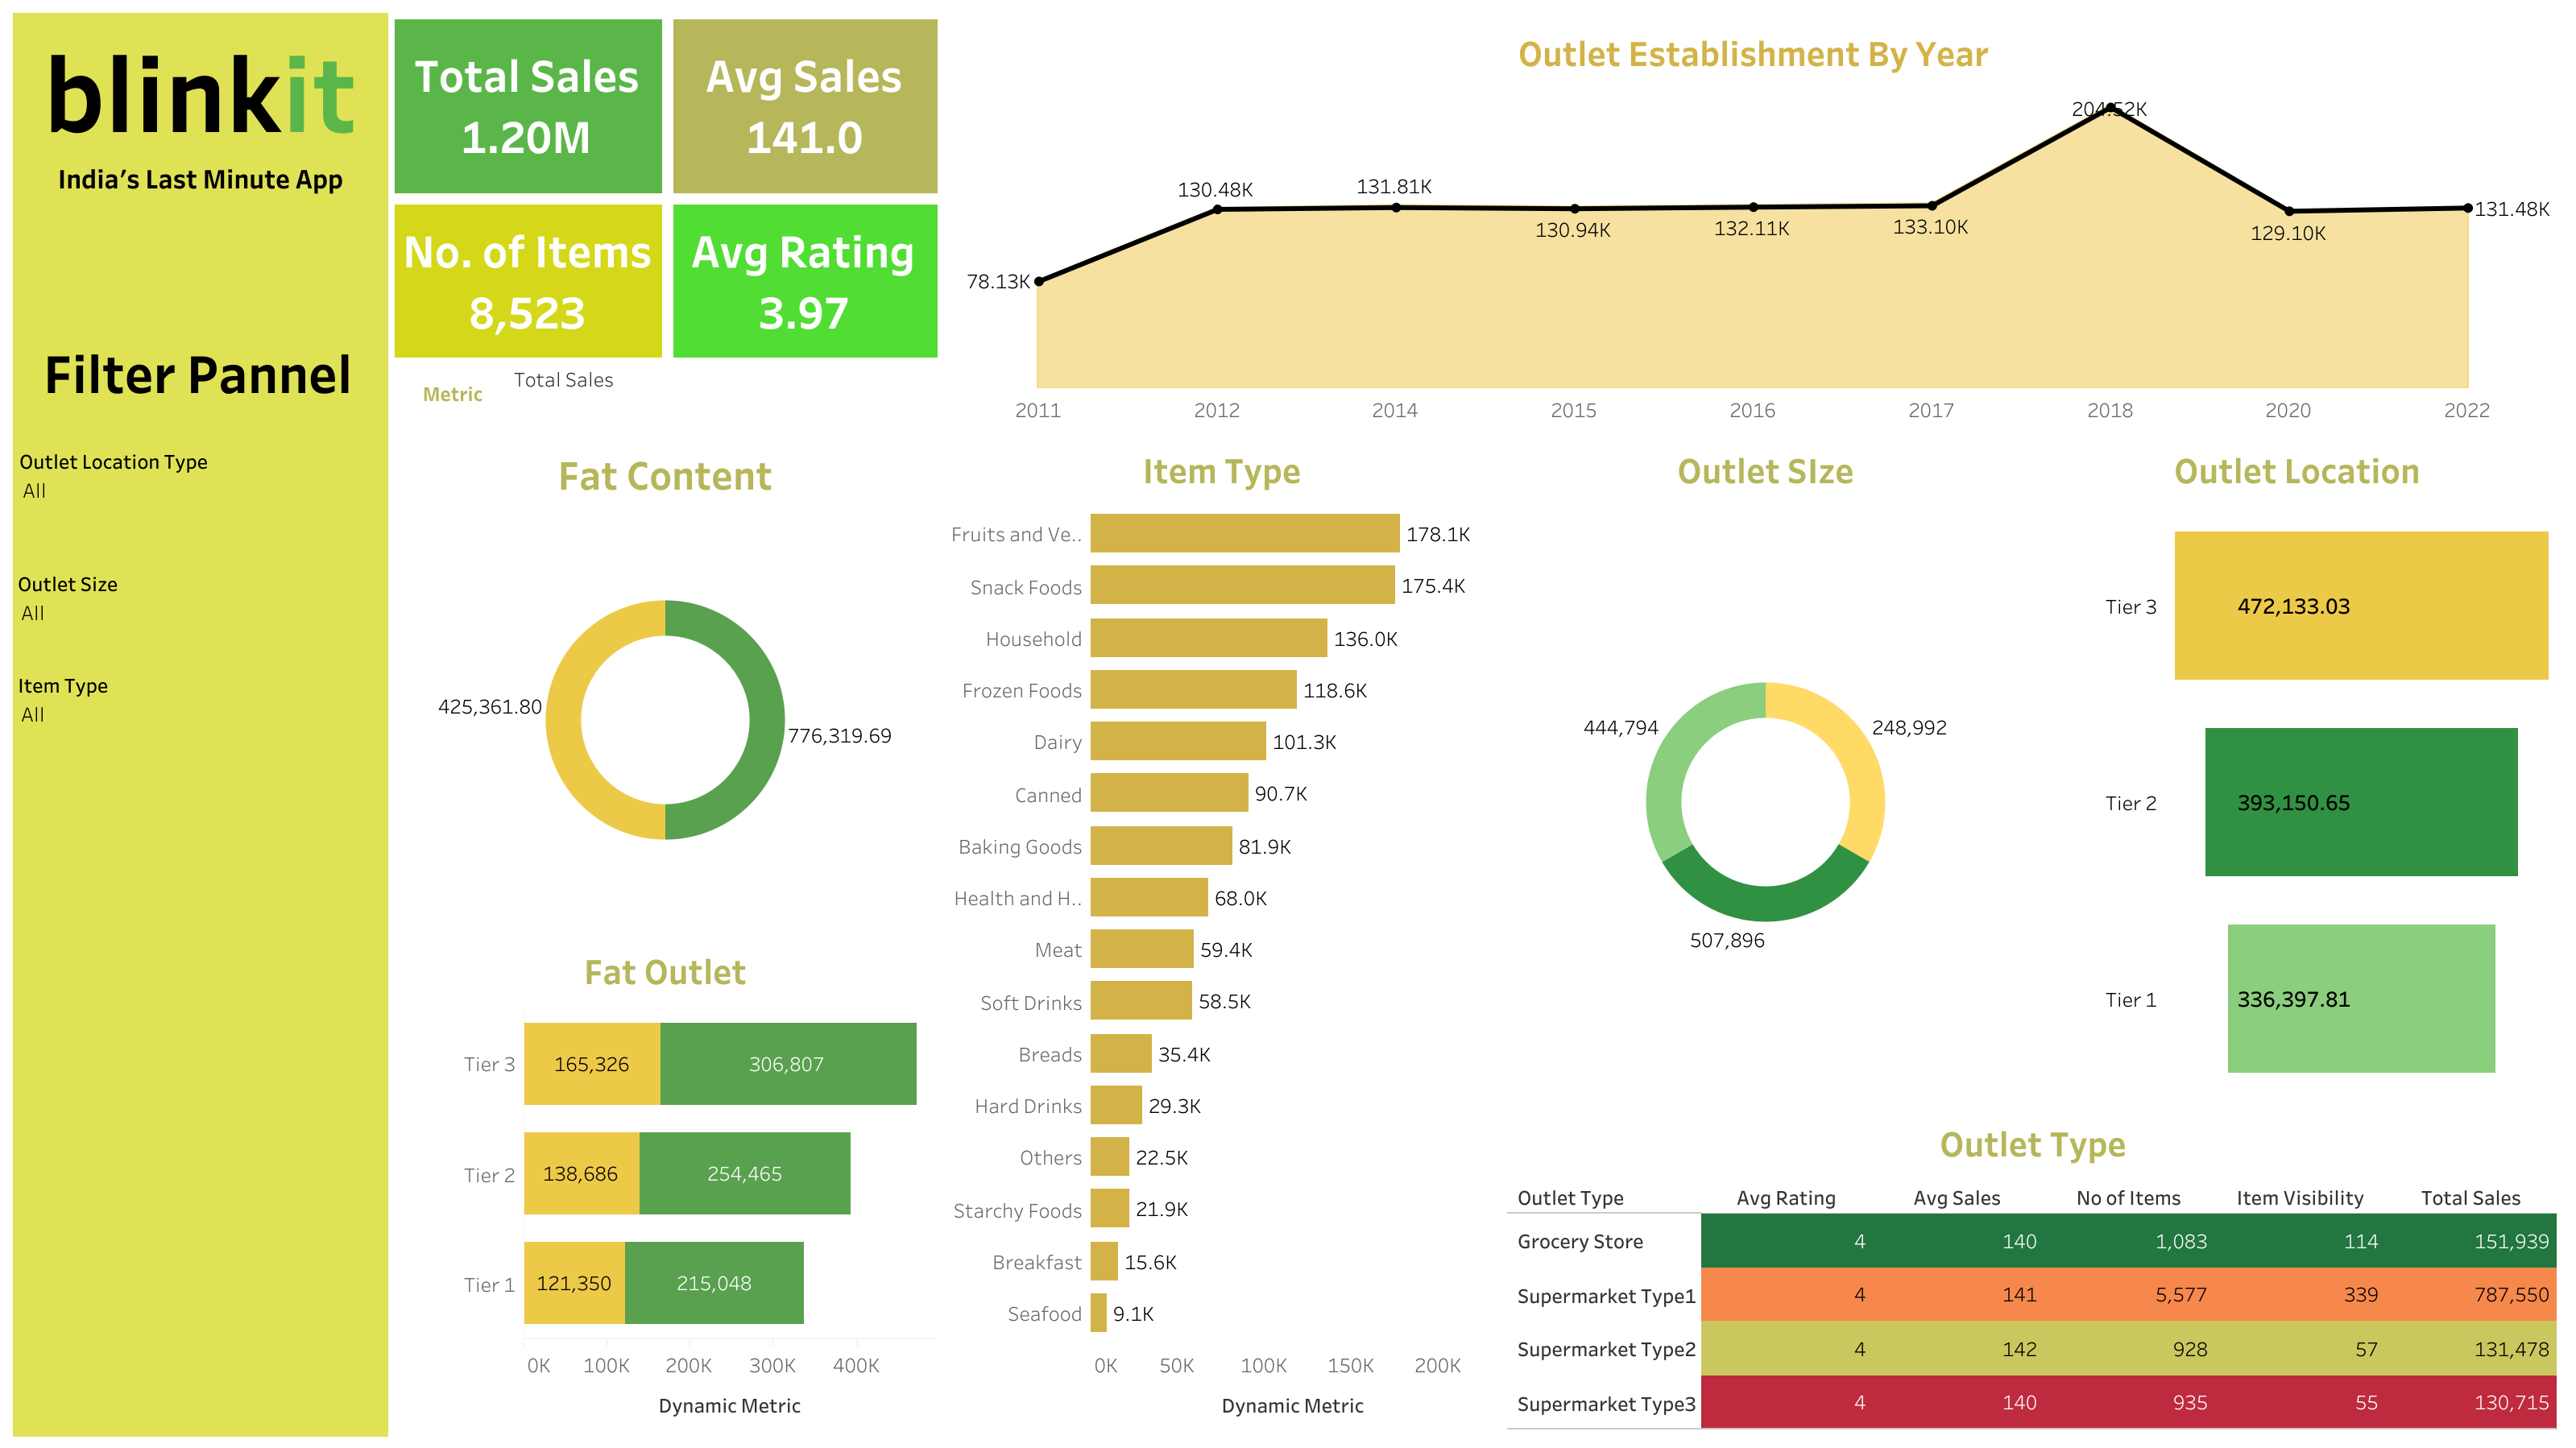

What the dashboard file says about the page in this screenshot:
{"tool":"tableau","page":{"name":"Dashboard 1","canvas":[1600,900],"ordinal":0},"visuals":[{"type":"text","box":[8,8,233,117]},{"type":"worksheet","title":"Total Sales","mark":"Automatic","box":[241,8,173,115]},{"type":"worksheet","title":"Avg Sales","mark":"Automatic","box":[414,8,171,115]},{"type":"worksheet","title":"Outlet Establishment By Year","mark":"Area","rows":["Calculation_0124083453345792","Calculation_0124083453345792"],"cols":["Outlet Establishment Year"],"box":[585,8,1007,259]},{"type":"worksheet","title":"No of Items","mark":"Automatic","box":[241,123,173,102]},{"type":"worksheet","title":"Avg Rating","mark":"Automatic","box":[414,123,171,102]},{"type":"text","box":[8,221,231,67]},{"type":"blank","box":[241,225,344,42]},{"type":"parameter","param":"[Parameters].[Parameter 1]","box":[245,226,295,36]},{"type":"worksheet","title":"Fat Content","mark":"Pie","rows":["Calculation_0124083458772998","Calculation_0124083458772998"],"box":[241,267,344,311]},{"type":"worksheet","title":"Item Type","mark":"Automatic","rows":["Item Type"],"cols":["Calculation_0124083457495044"],"box":[585,267,347,624.9]},{"type":"worksheet","title":"Outlet SIze","mark":"Pie","rows":["Calculation_0124083458772998","Calculation_0124083458772998"],"box":[932,267,328,418]},{"type":"worksheet","title":"Outlet Location","mark":"Automatic","rows":["Outlet Location Type"],"cols":["Sales","Sales"],"box":[1260,267,332,418]},{"type":"filter","title":"Outlet Location","param":"[federated.1cu2y9a1dkhc4v15j7gw81ud37cb].[none:Outlet Location Type:nk]","box":[10,368,230,52]},{"type":"filter","title":"Outlet Location","param":"[federated.1cu2y9a1dkhc4v15j7gw81ud37cb].[none:Outlet Size:nk]","box":[11,442,228,40]},{"type":"filter","title":"Outlet Location","param":"[federated.1cu2y9a1dkhc4v15j7gw81ud37cb].[none:Item Type:nk]","box":[11,523,230,56]},{"type":"worksheet","title":"Fat Outlet","mark":"Automatic","rows":["Outlet Location Type"],"cols":["Calculation_0124083457495044"],"box":[241,578,344,314]},{"type":"worksheet","title":"Outlet Type","mark":"Square","rows":["Outlet Type"],"box":[932,685,660,207]}]}

Visuals, with their boxes in screenshot pixels (x1, y1, x2, y2), scaled from the page's 1600x900 canvas onto the 2576x1448 screenshot:
text: 13:13:388:201
"Total Sales" worksheet: 388:13:666:198
"Avg Sales" worksheet: 666:13:942:198
"Outlet Establishment By Year" worksheet (Area marks): 942:13:2563:429
"No of Items" worksheet: 388:198:666:362
"Avg Rating" worksheet: 666:198:942:362
text: 13:356:385:463
blank: 388:362:942:429
parameter: 395:363:869:421
"Fat Content" worksheet (Pie marks): 388:429:942:930
"Item Type" worksheet: 942:429:1501:1435
"Outlet SIze" worksheet (Pie marks): 1501:429:2028:1102
"Outlet Location" worksheet: 2028:429:2563:1102
"Outlet Location" filter: 16:592:387:676
"Outlet Location" filter: 18:711:385:776
"Outlet Location" filter: 18:842:388:932
"Fat Outlet" worksheet: 388:930:942:1435
"Outlet Type" worksheet (Square marks): 1501:1102:2563:1435
